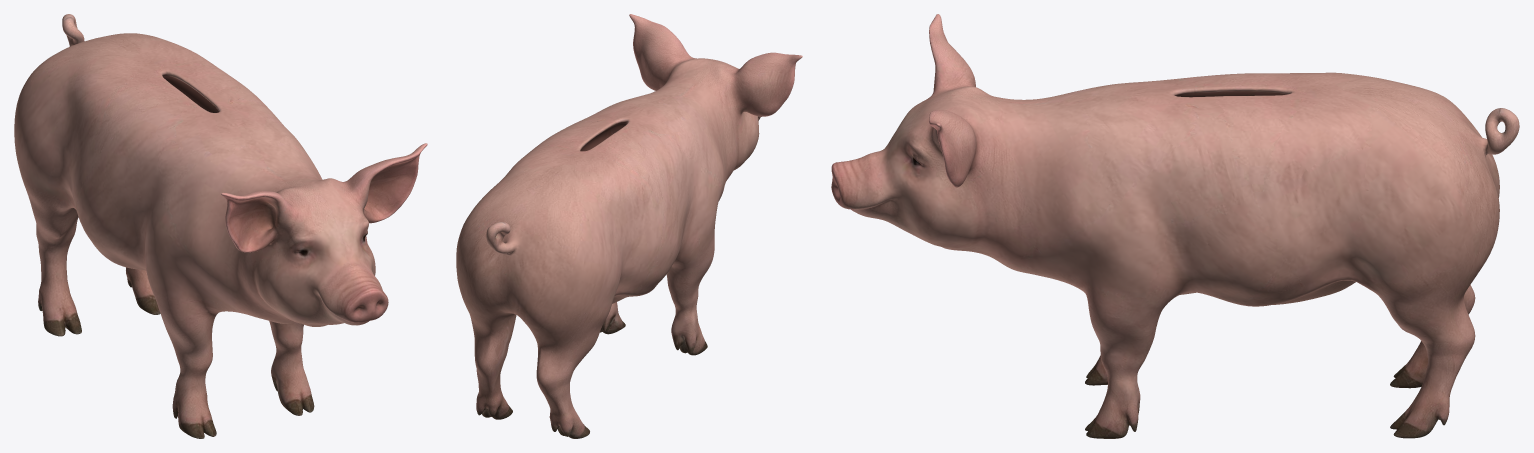
The model's file is pig.glb.
3 renders of one model, left to right at view 1: azimuth 30°, elevation 25°; view 2: azimuth 150°, elevation 25°; view 3: azimuth 270°, elevation 25°, orthographic. The views are drawn at different scales.
Size of the model in its own units: 0.7248 by 1.03 by 1.9.
Materials: 1 (1 with a texture image).
